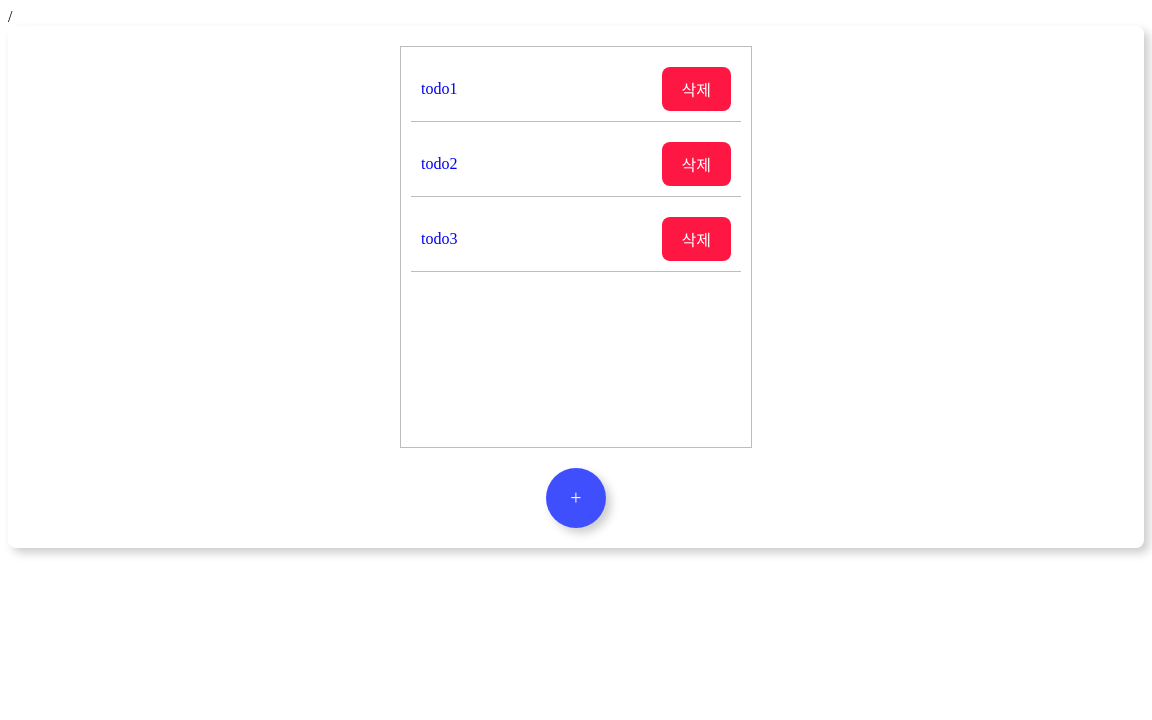
Test: <List> › Delete Button Test
expect the link "todo1" is shown: met, box [421, 80, 458, 97]
Step 1. Click the text "삭제" in the row of "todo1" → [696, 89], box [682, 77, 711, 101]
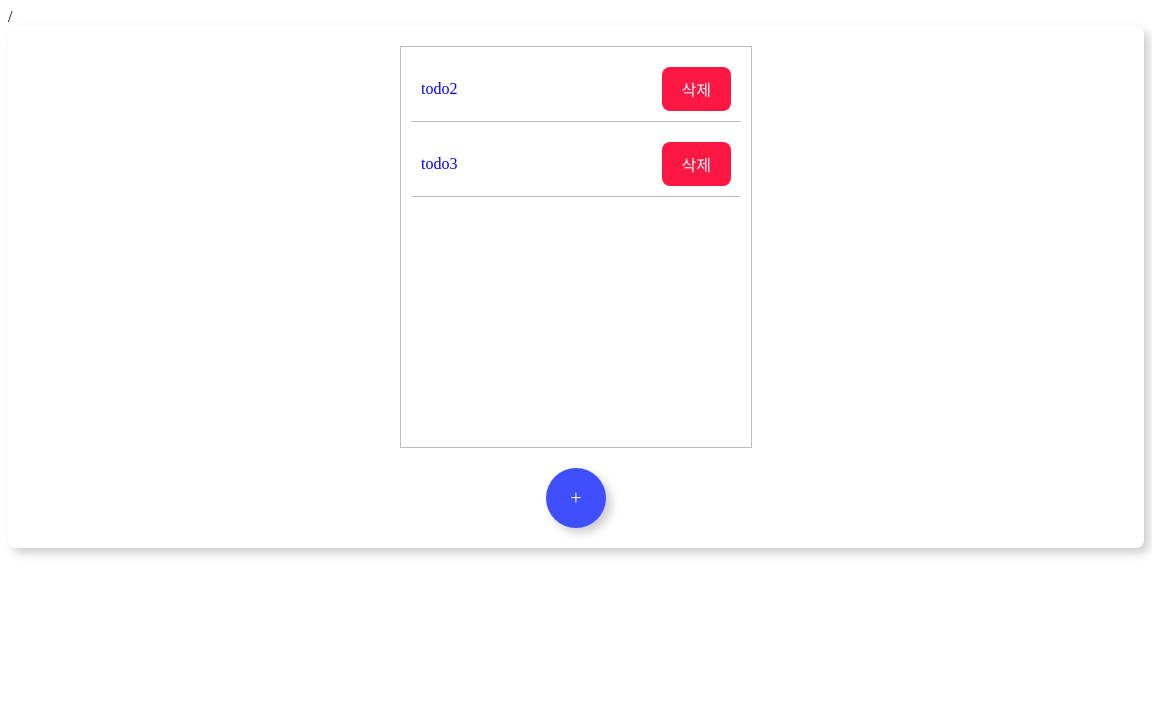
expect the link "todo1" is gone: met
expect the link "todo1" no longer shows "todo1": met
